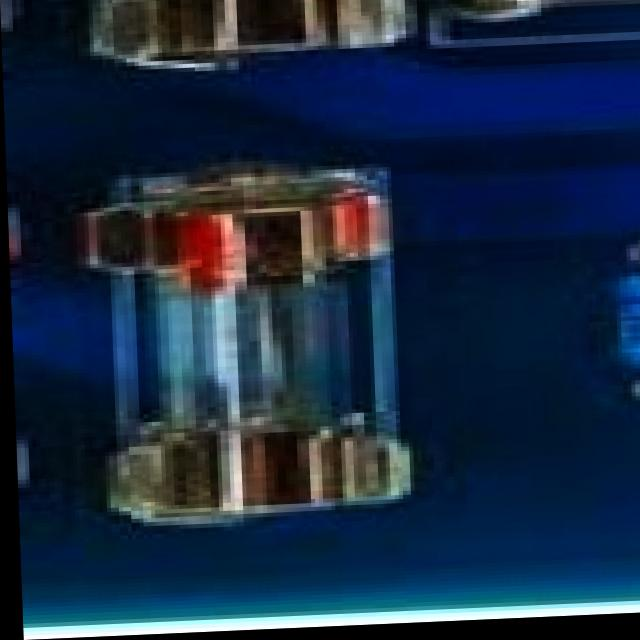connector: (464, 0, 640, 40)
fuse: (74, 187, 387, 522), (132, 0, 375, 83)
resistor: (596, 262, 640, 395)
